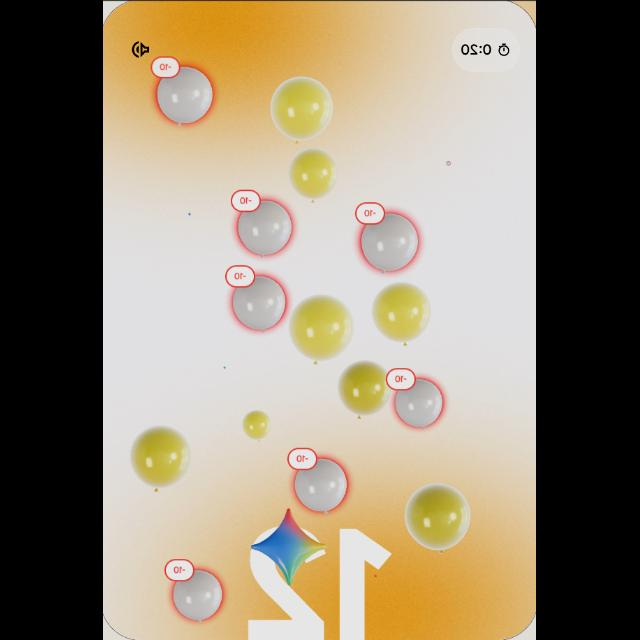gemini: (250, 510, 328, 588)
hazard: (146, 56, 218, 128), (353, 198, 421, 274), (232, 188, 292, 258), (228, 266, 286, 334), (166, 556, 224, 624), (390, 367, 446, 431), (292, 450, 348, 514), (356, 201, 386, 225)
safe: (124, 424, 194, 498), (407, 482, 473, 554), (288, 294, 356, 361), (270, 75, 336, 141), (373, 282, 432, 344), (338, 360, 394, 418), (288, 147, 340, 201), (244, 410, 272, 440)
